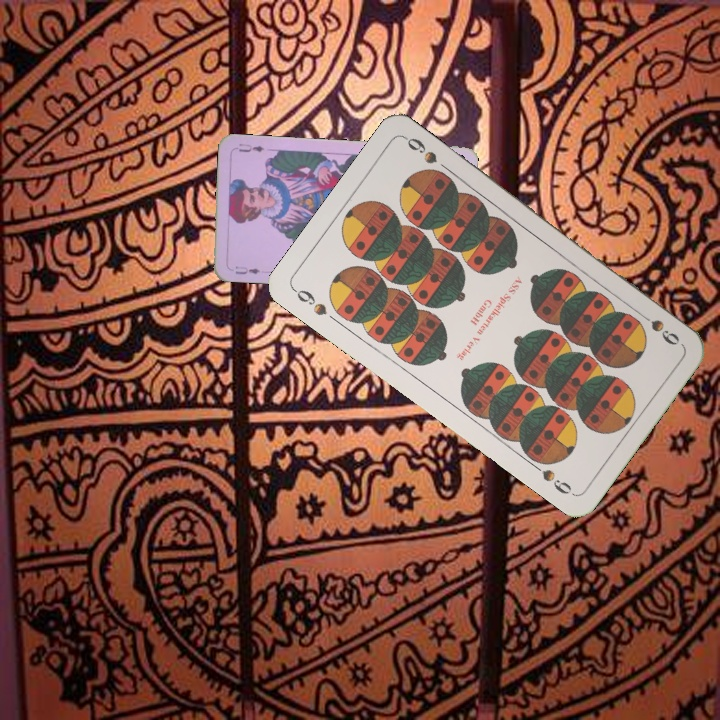EU: (231, 262, 262, 277)
S9: (632, 307, 683, 349), (289, 285, 330, 319)
